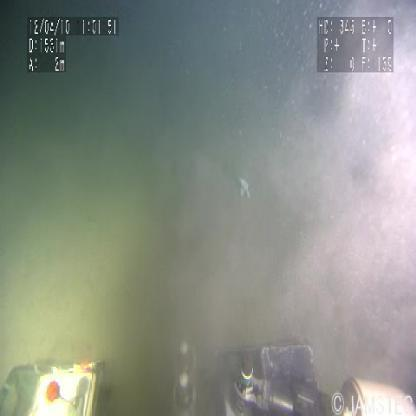Rác: (236, 176, 252, 204)
